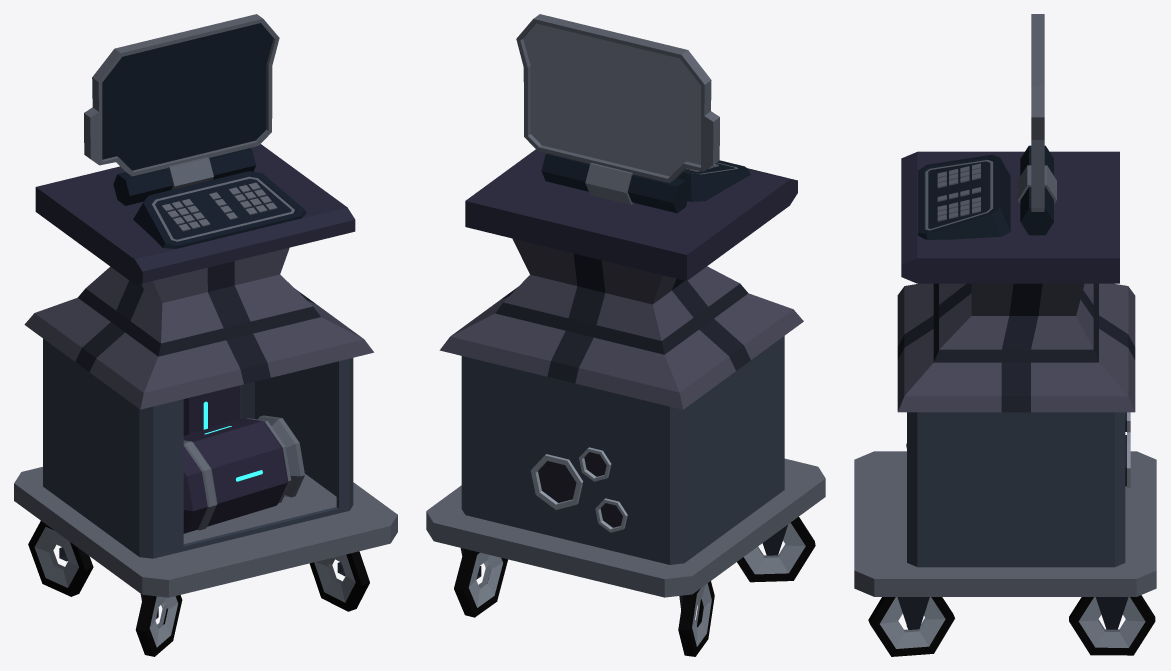
Rendered from Ordi.fbx.
The picture shows the model from 3 angles, left to right: view 1: azimuth 30°, elevation 25°; view 2: azimuth 150°, elevation 25°; view 3: azimuth 270°, elevation 25°; orthographic projection. The views are drawn at different scales.
Parts seen in each view (by area): view 1: Ordi; view 2: Ordi; view 3: Ordi.
Boxes of the visible parts, x1,y1,x2,y2 form: Ordi: (14,14,397,656); Ordi: (426,14,825,656); Ordi: (854,14,1156,656).
Size of the model in its own units: 69.67 by 142 by 69.67.
